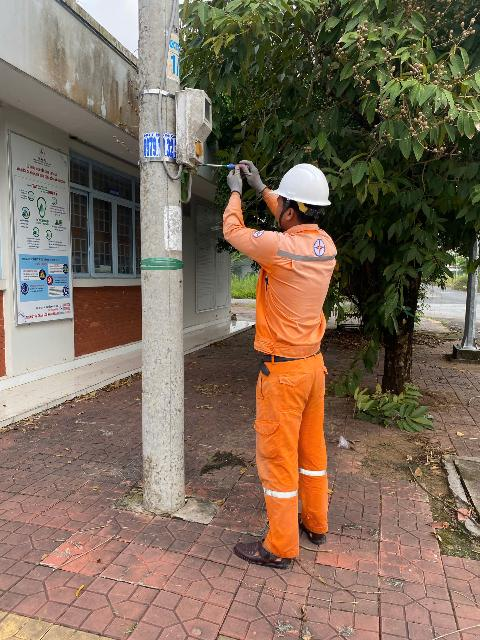gloves: (234, 155, 272, 193), (209, 159, 247, 189)
helmet: (270, 157, 351, 225)
shoes: (233, 522, 298, 570), (289, 500, 335, 542)
